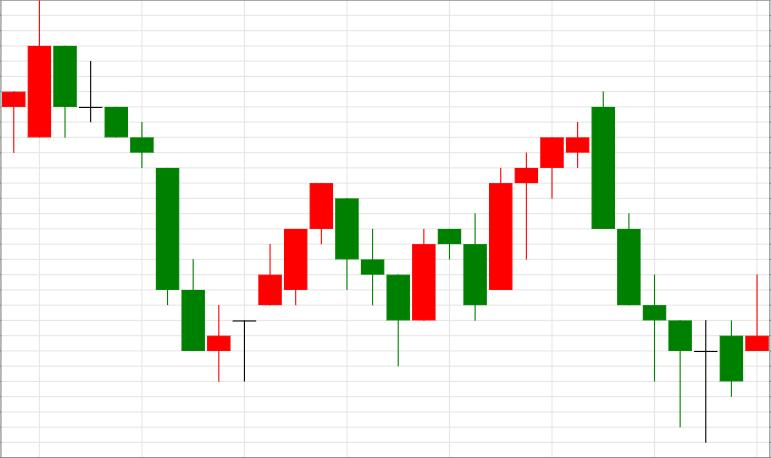hammer_rise: (567, 91, 691, 426)
